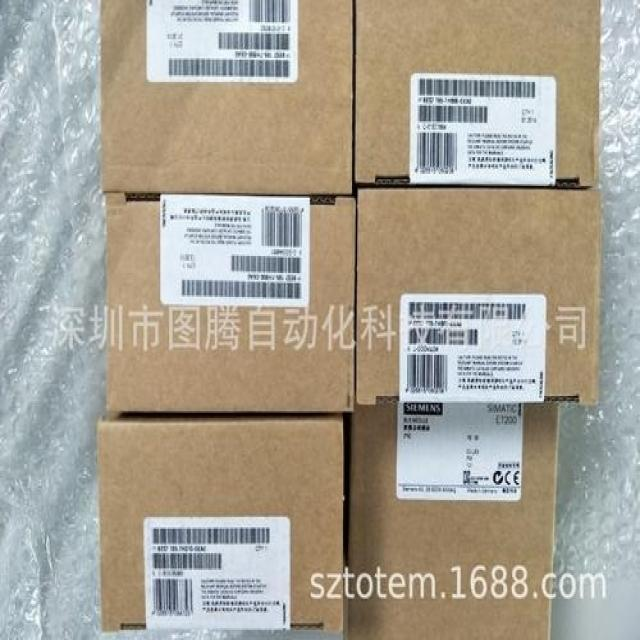box: (106, 194, 357, 412), (97, 412, 343, 632), (356, 190, 603, 406), (347, 406, 559, 638), (100, 0, 353, 194), (354, 1, 601, 187)
